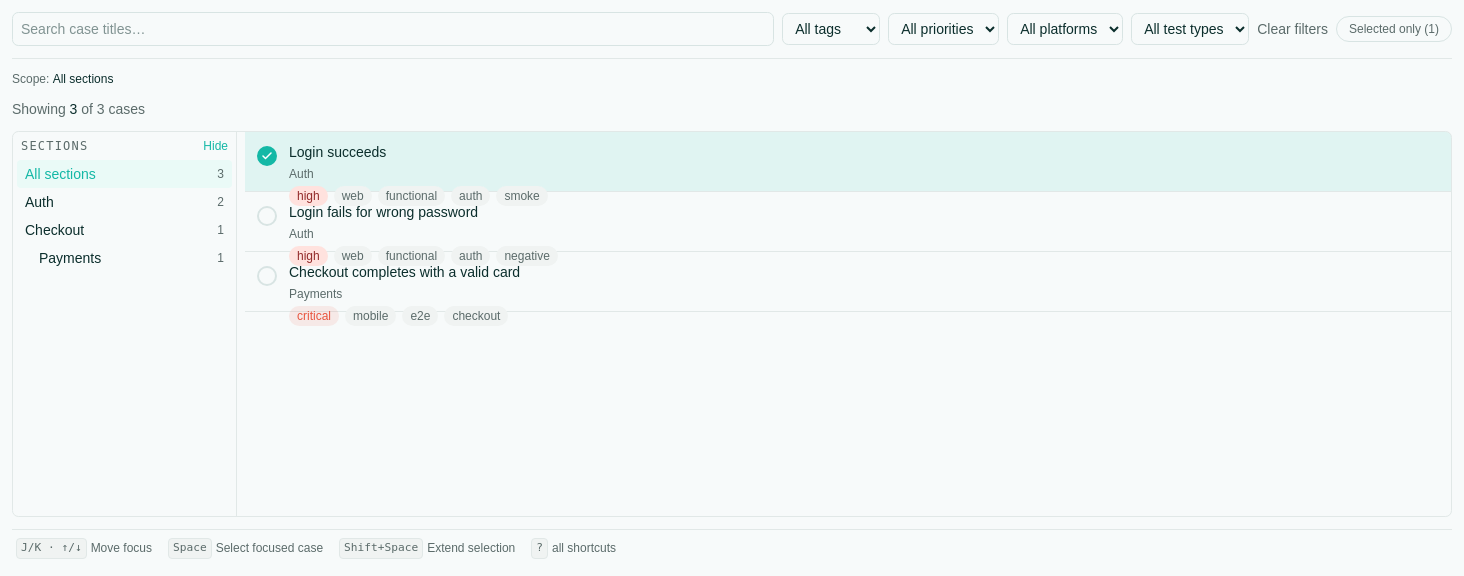
it: CasePicker › selection survives a scope change
This screenshot has width=1464, height=576.
Click the list item "Checkout 1". click: (55, 230)
box: [25,222,224,238]
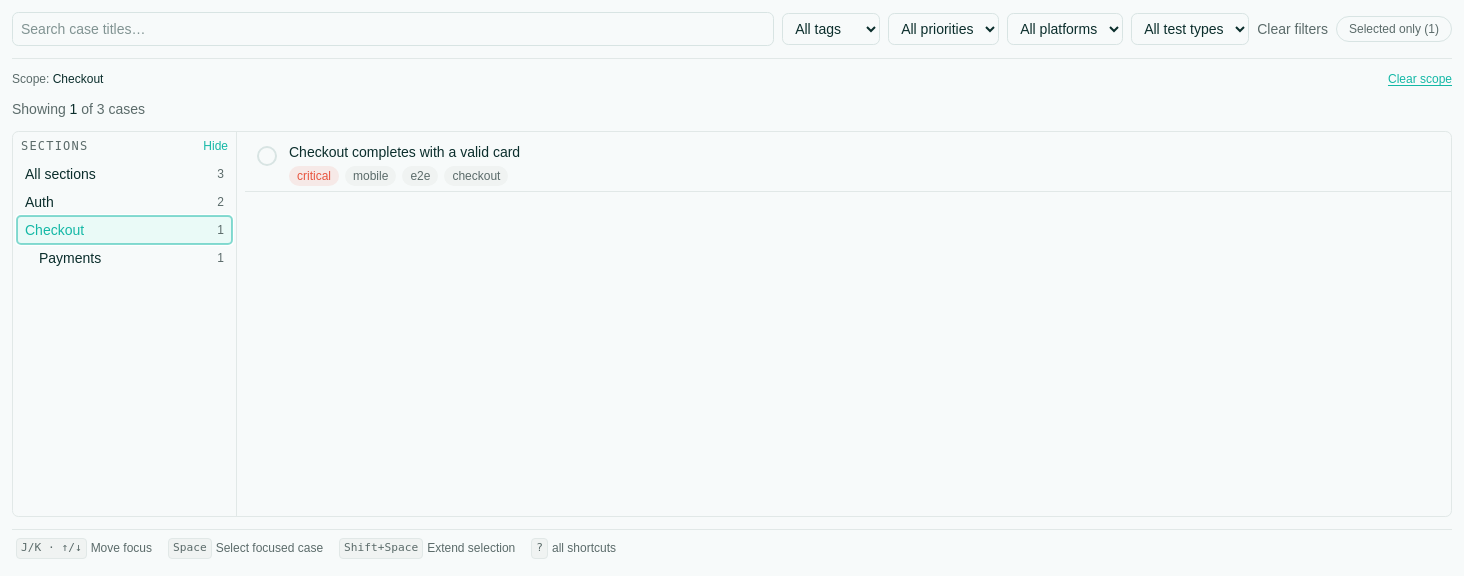
Expected: the checkbox labelled "Login succeeds" is gone
Click the list item "All sections 3". click: (60, 174)
box: [25,166,224,182]
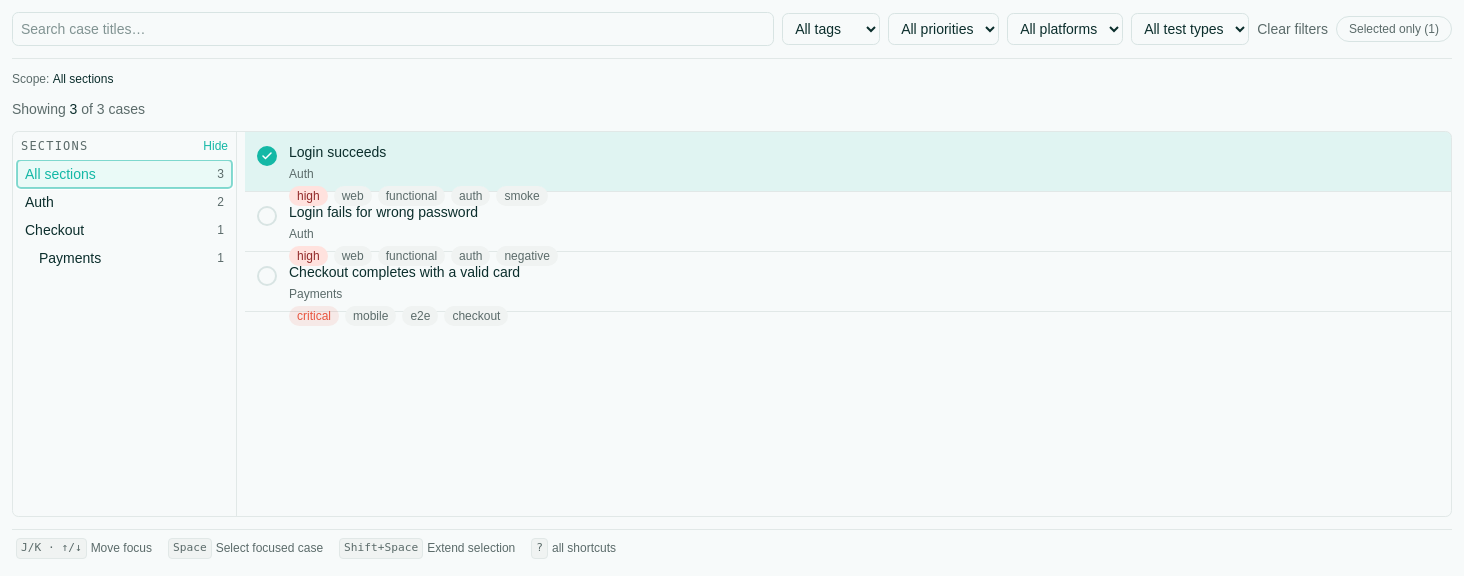
Expected: the checkbox labelled "Login succeeds Auth high web functional auth smoke" is checked, [245,132,1451,192]
